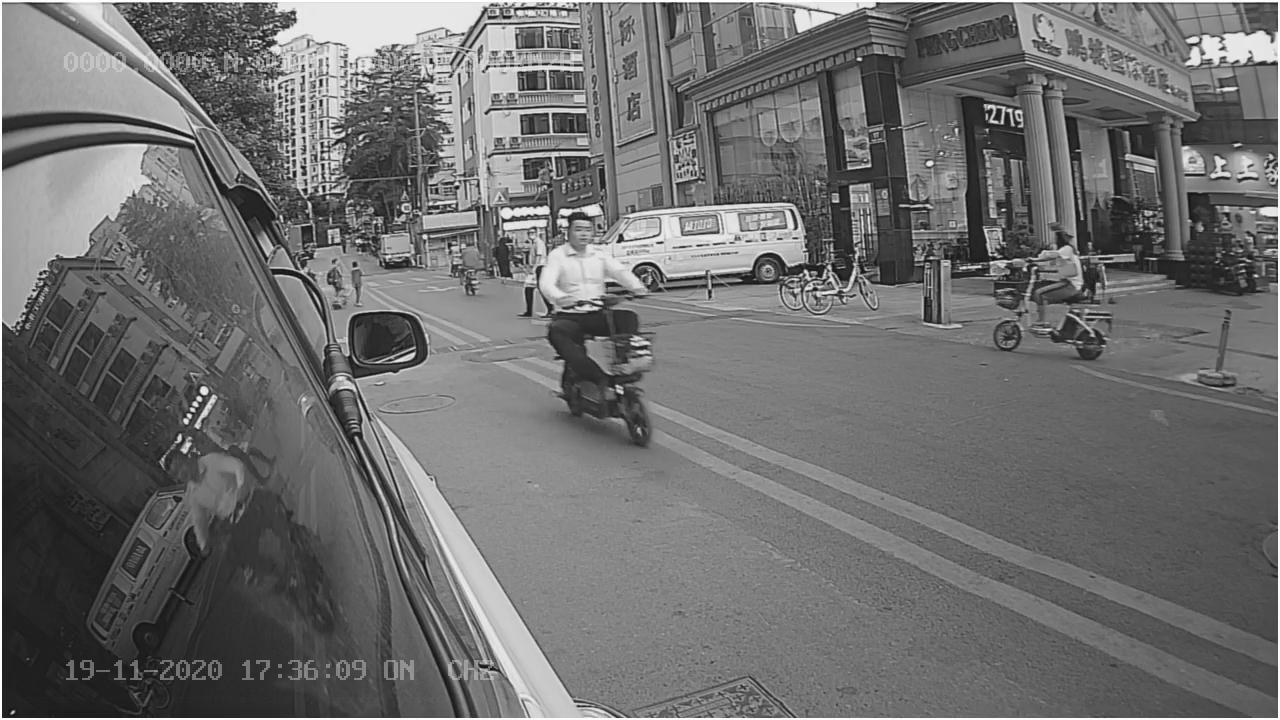person: (540, 218, 624, 296)
